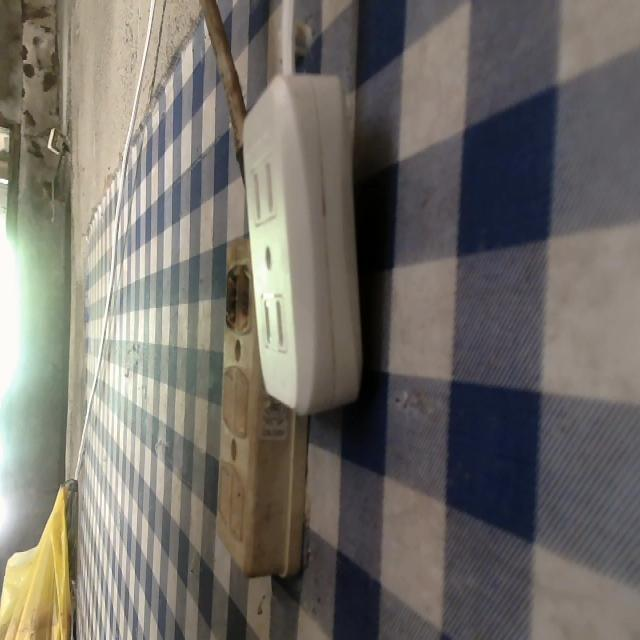-: (217, 266, 259, 334)
